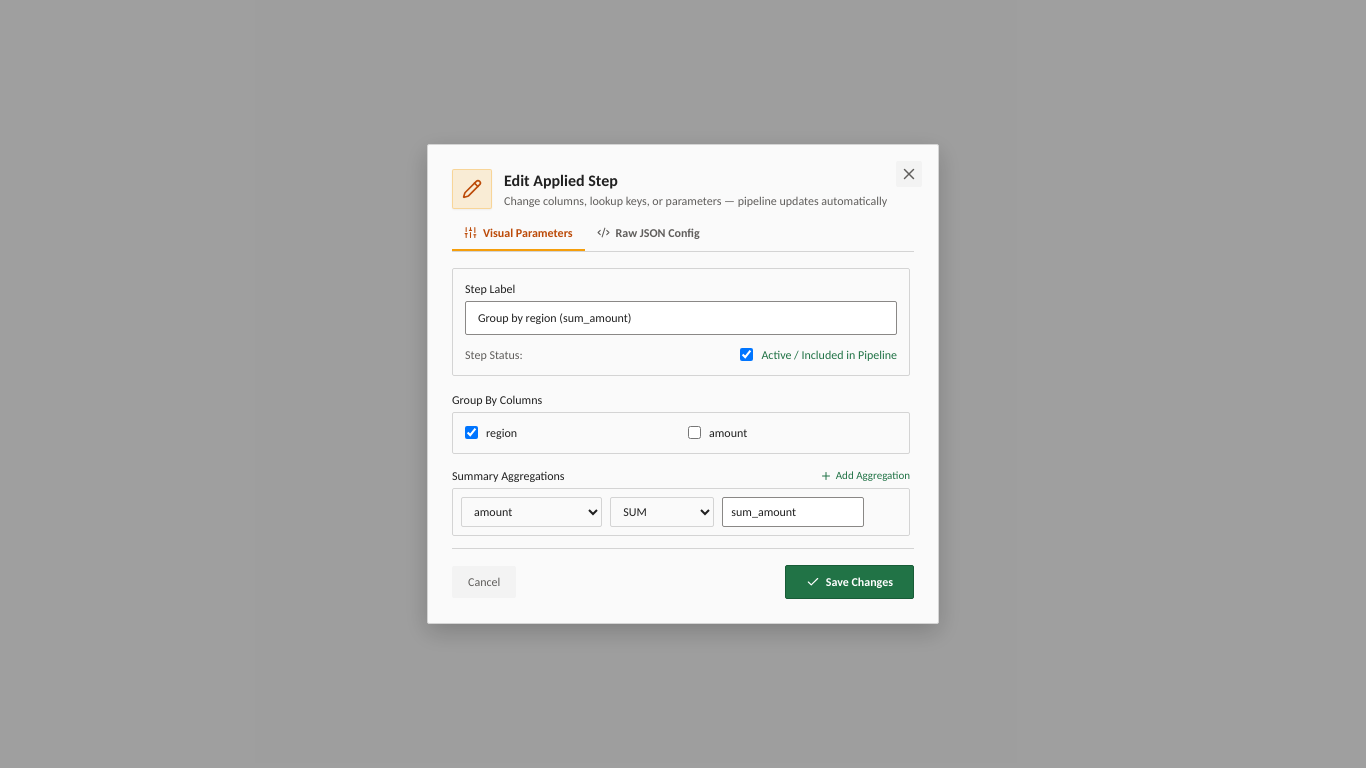
Test: StepSheet Workbench › supports editing applied aggregation step and synchronizing function, alias, and step label
Expected: the heading "Edit Applied Step" is shown, top-left (504, 171), bottom-right (618, 190)
Expected: the field showing "Group by region (sum_amount)" below "Step Label" is shown, top-left (465, 301), bottom-right (897, 335)
# Change agg_func to AVG
Select "AVG" in the 2nd dropdown showing "SUM" at [662, 512], box top-left (610, 497), bottom-right (714, 527)
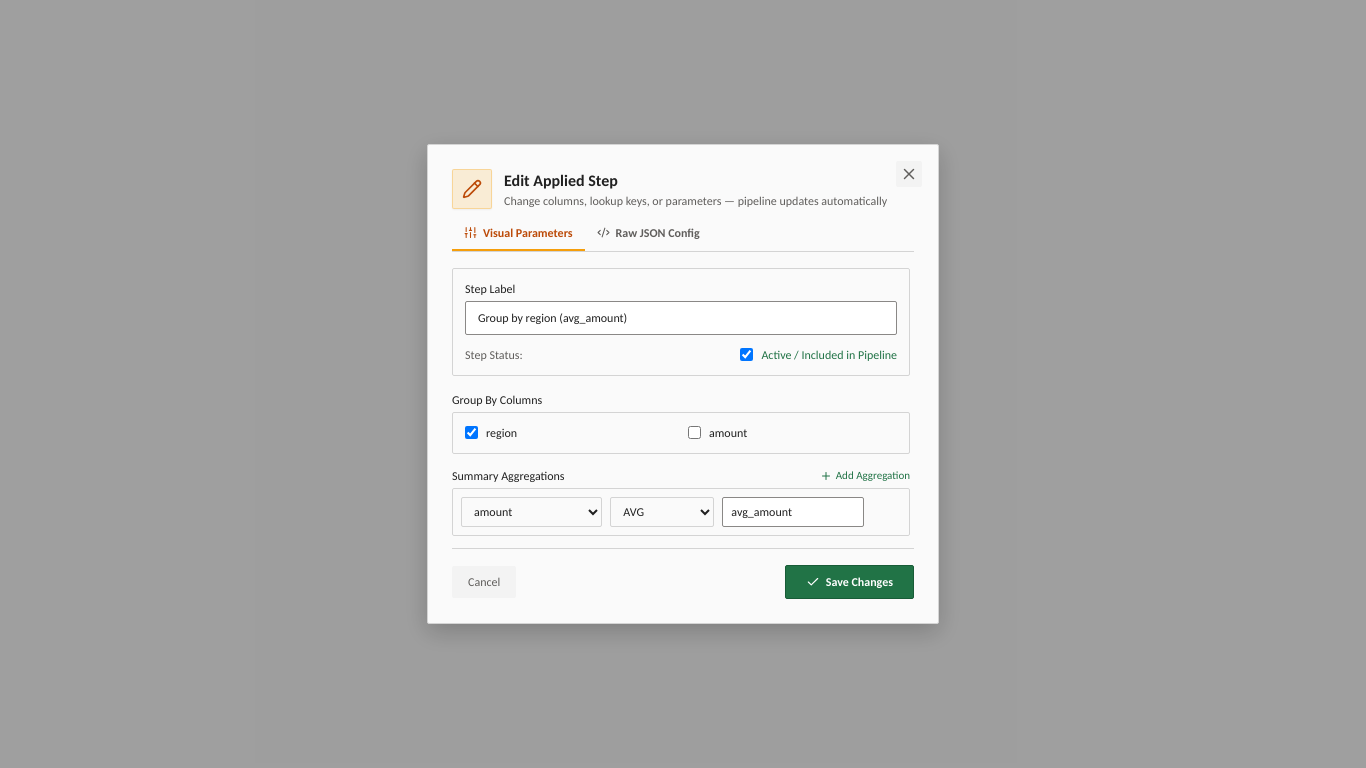
Expected: the number of fields showing "avg_amount" is 2, top-left (465, 301), bottom-right (897, 335); top-left (722, 497), bottom-right (864, 527)
Expected: the field showing "avg_amount" below "Summary Aggregations" is shown, top-left (722, 497), bottom-right (864, 527)
